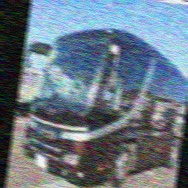bus: (18, 13, 188, 188)
